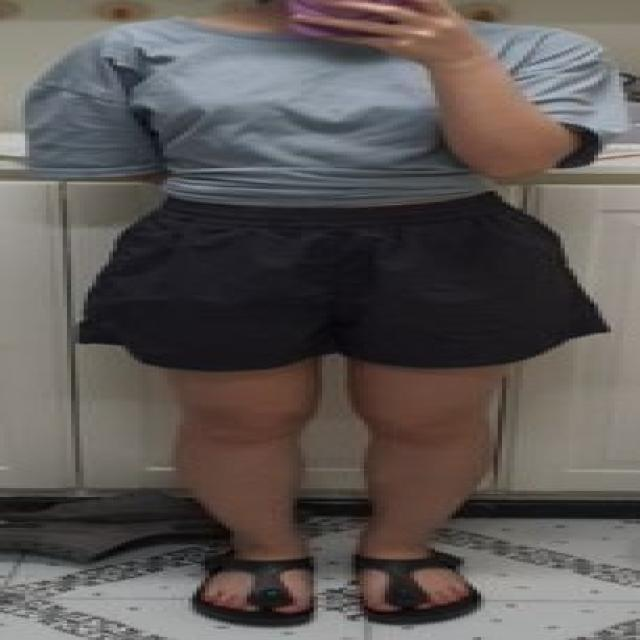shortpants: (76, 190, 612, 374)
shortsleeve: (29, 16, 614, 204)
